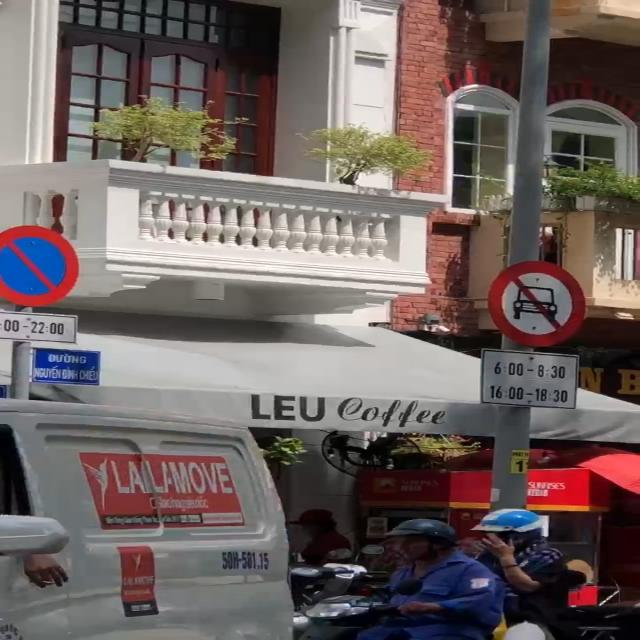Bien bao cam do xe: (1, 216, 88, 313)
Bien bao cam xe oto: (480, 255, 594, 349)
